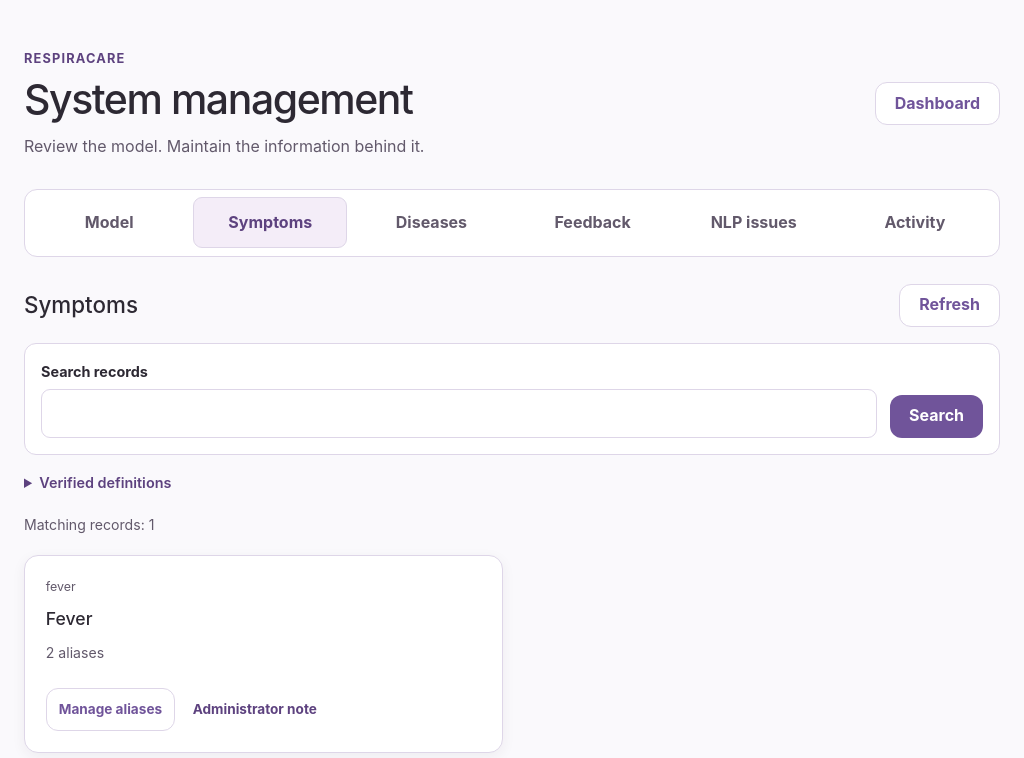
Scenario: administrator system management › confirms custom alias removal before making the request
Step 1. Click the button "Manage aliases" → click(110, 710), box [46,688,175,731]
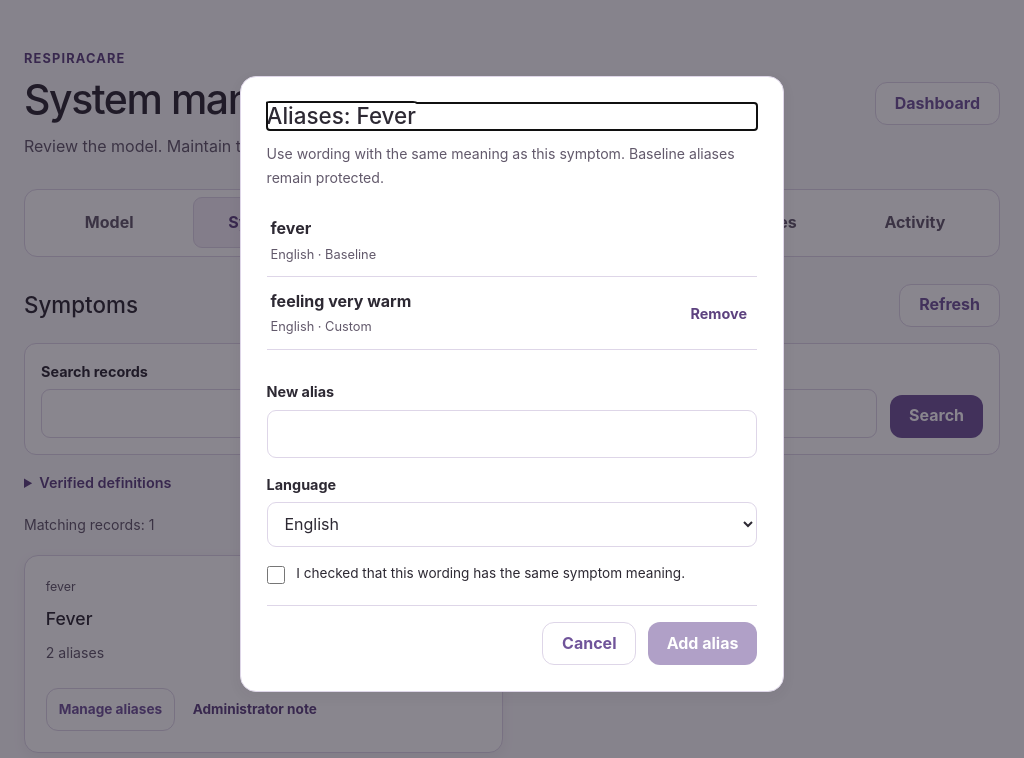
Step 2. Click the button with aria-label "Remove: feeling very warm" → click(719, 313), box [684,295,753,331]
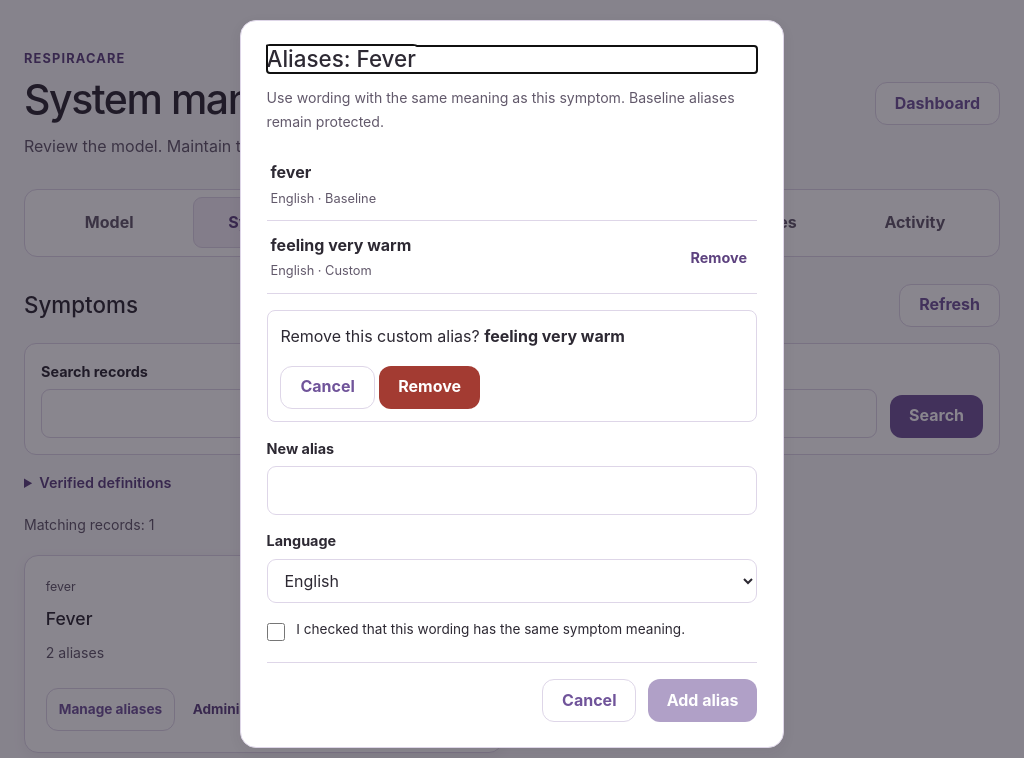
Step 3. Click the button "Remove" below "Remove this custom alias?" → click(430, 387), box [379,366,480,409]
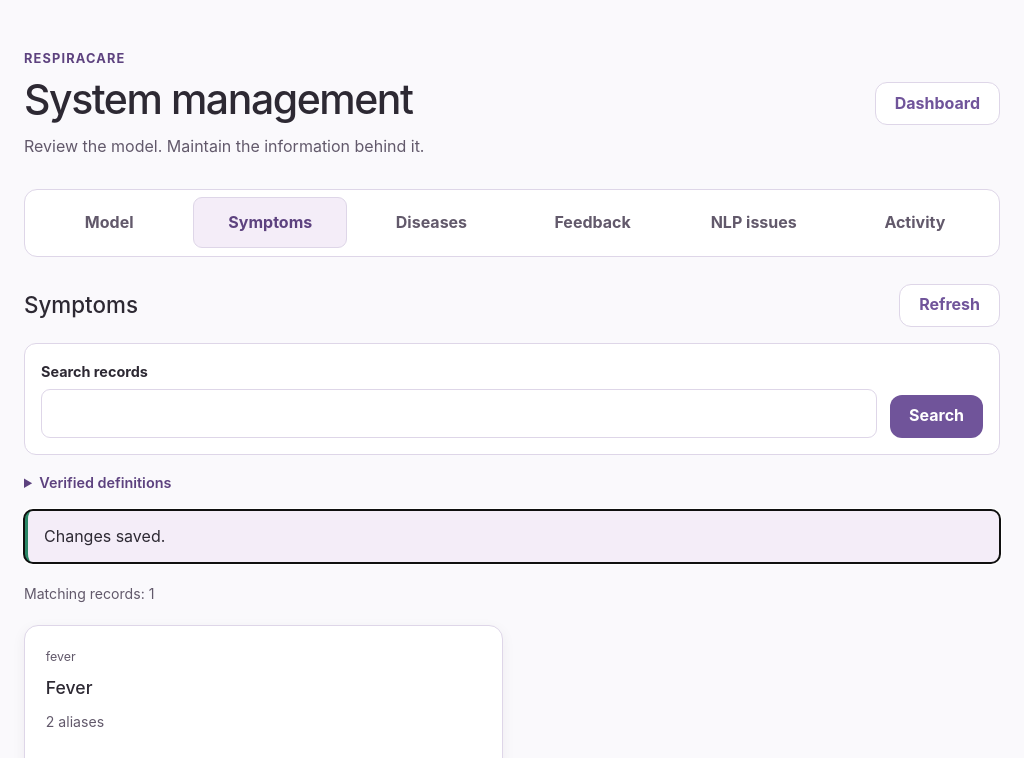
Expected: the text "Changes saved." is shown, [24,510,1000,563]
